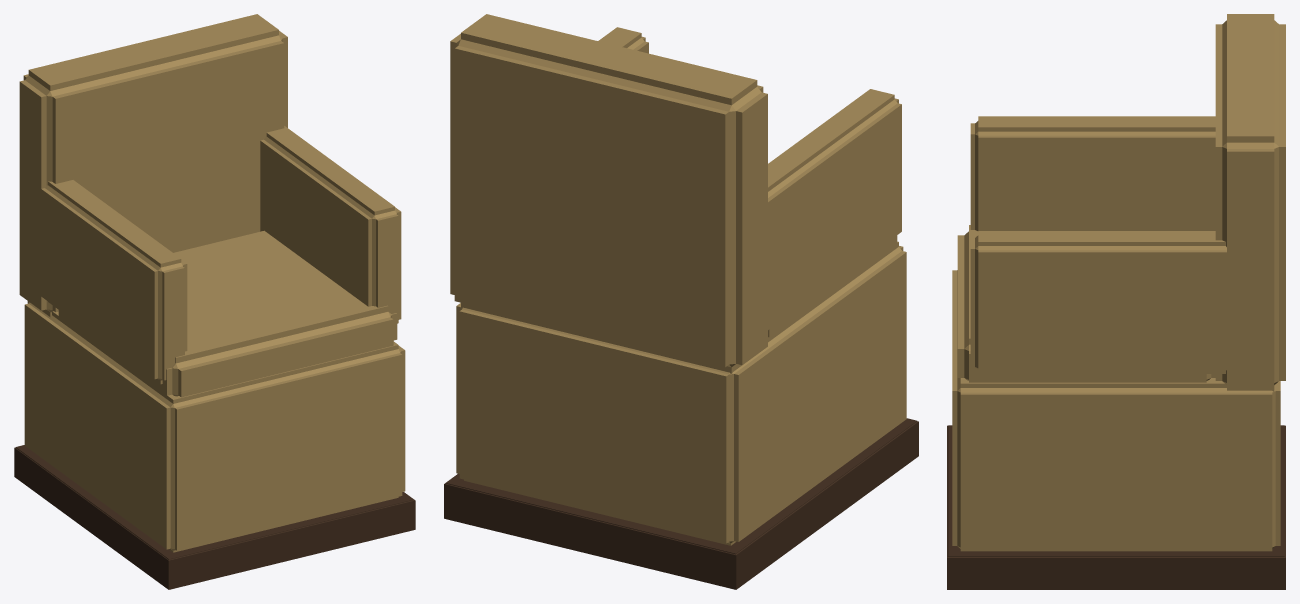
File: chair.glb
3 views of the same model, side by side, from view 1: azimuth 30°, elevation 25°; view 2: azimuth 150°, elevation 25°; view 3: azimuth 270°, elevation 25° (orthographic). The views are drawn at different scales.
Parts seen in each view (by area): view 1: ClosedUpholsteredChairBase, ChairBack, ChairSeatCushion, ChairArm, ChairArm.001, ChairFloorBase; view 2: ChairBack, ClosedUpholsteredChairBase, ChairArm, ChairFloorBase, ChairSeatCushion, ChairArm.001; view 3: ClosedUpholsteredChairBase, ChairArm.001, ChairArm, ChairBack, ChairFloorBase, ChairSeatCushion.
Part boxes in pixels (<box>): ClosedUpholsteredChairBase: <box>24,301,405,552</box>; ChairBack: <box>19,14,287,316</box>; ChairSeatCushion: <box>58,230,397,397</box>; ChairArm: <box>38,180,187,384</box>; ChairArm.001: <box>260,126,401,323</box>; ChairFloorBase: <box>14,445,415,589</box>; ChairBack: <box>450,14,767,373</box>; ClosedUpholsteredChairBase: <box>456,241,906,545</box>; ChairArm: <box>764,89,901,331</box>; ChairFloorBase: <box>444,418,918,589</box>; ChairSeatCushion: <box>768,235,897,337</box>; ChairArm.001: <box>598,27,648,53</box>; ClosedUpholsteredChairBase: <box>952,270,1280,551</box>; ChairArm.001: <box>970,231,1233,373</box>; ChairArm: <box>970,116,1215,230</box>; ChairBack: <box>1215,14,1285,391</box>; ChairFloorBase: <box>947,425,1285,589</box>; ChairSeatCushion: <box>957,225,1215,382</box>.
Size of the model in its own units: 0.6 by 0.95 by 0.65.
